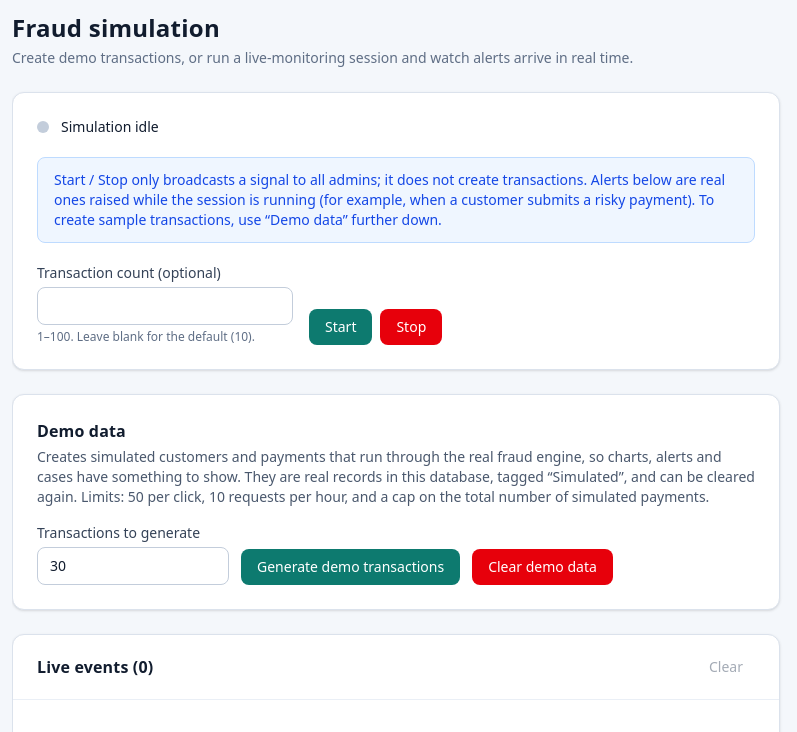
Test case: A-08 demo data › says it can take up to a minute while generating
Click the button "Generate demo transactions" at coordinates (351, 567), box x1=241 y1=549 x2=460 y2=585
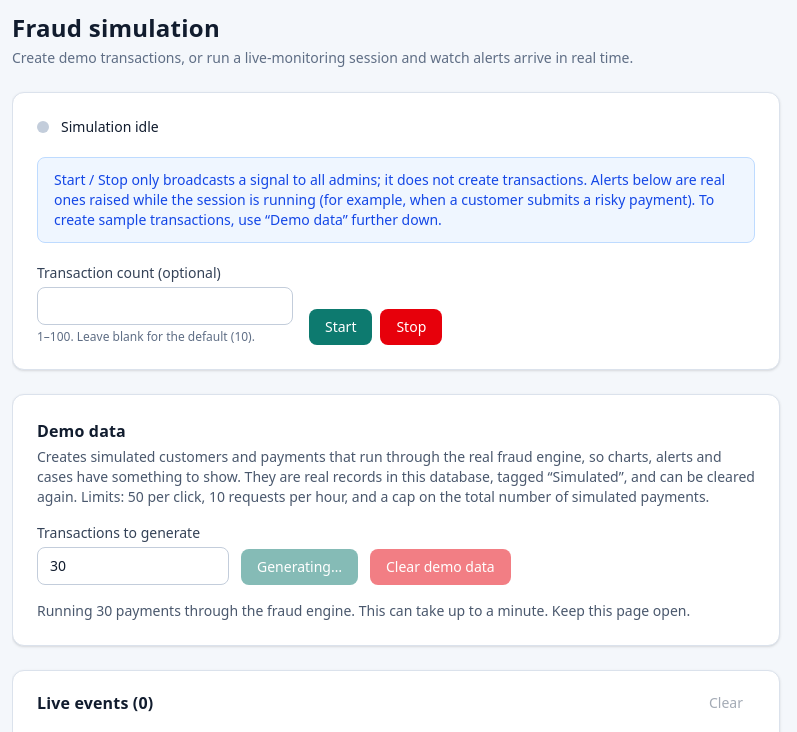
Now the text "This can take up to a minute" is shown, box x1=112 y1=601 x2=690 y2=620
